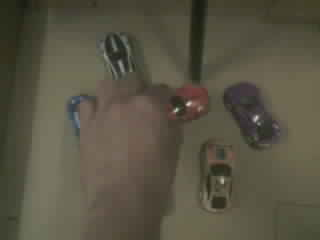Car: (224, 82, 279, 148), (200, 139, 232, 211), (169, 84, 209, 120), (102, 33, 133, 79), (67, 97, 94, 133)
